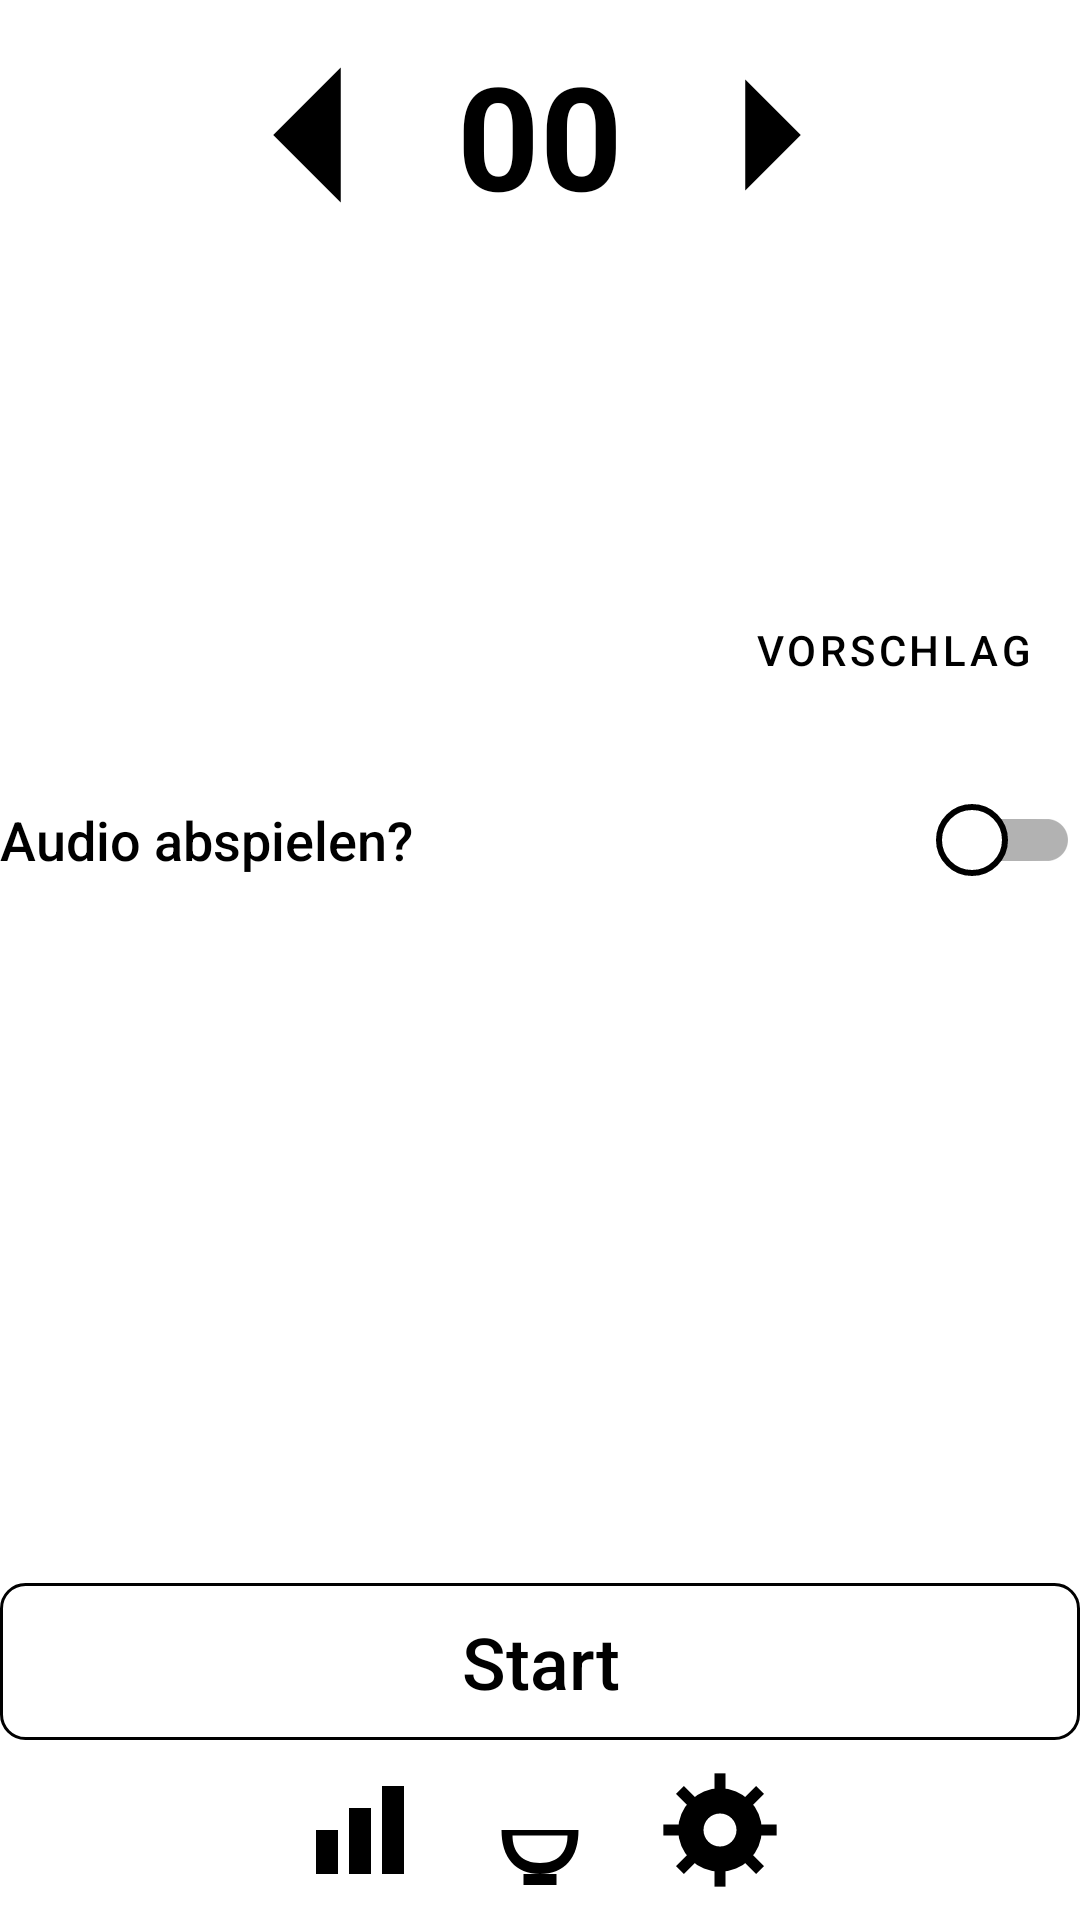

Screen size 1080 x 1920. Icon name, then its box in pixels as (x1, y1, x2, y2):
activity bowl: (501, 1830, 579, 1885)
less: (273, 67, 341, 203)
more: (745, 79, 801, 191)
settings: (663, 1773, 777, 1887)
stats: (316, 1786, 404, 1874)
